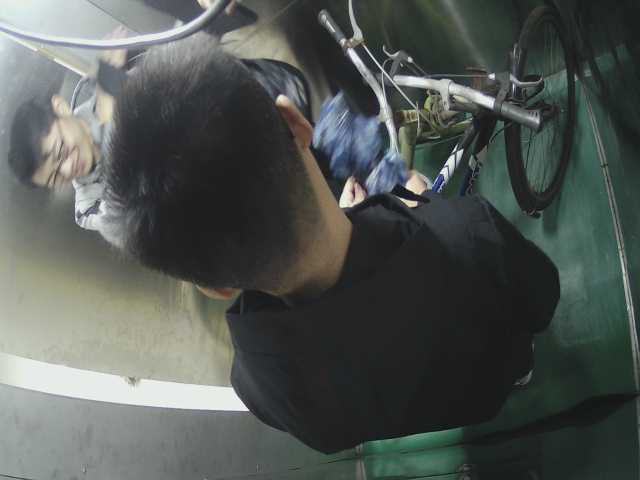bicycle: (305, 8, 592, 213)
person: (110, 34, 556, 420)
